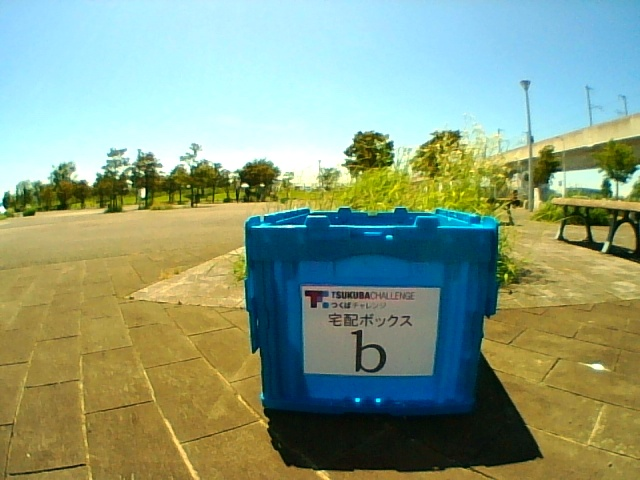blue_box: (263, 212, 470, 410)
tag_b: (303, 288, 432, 375)
